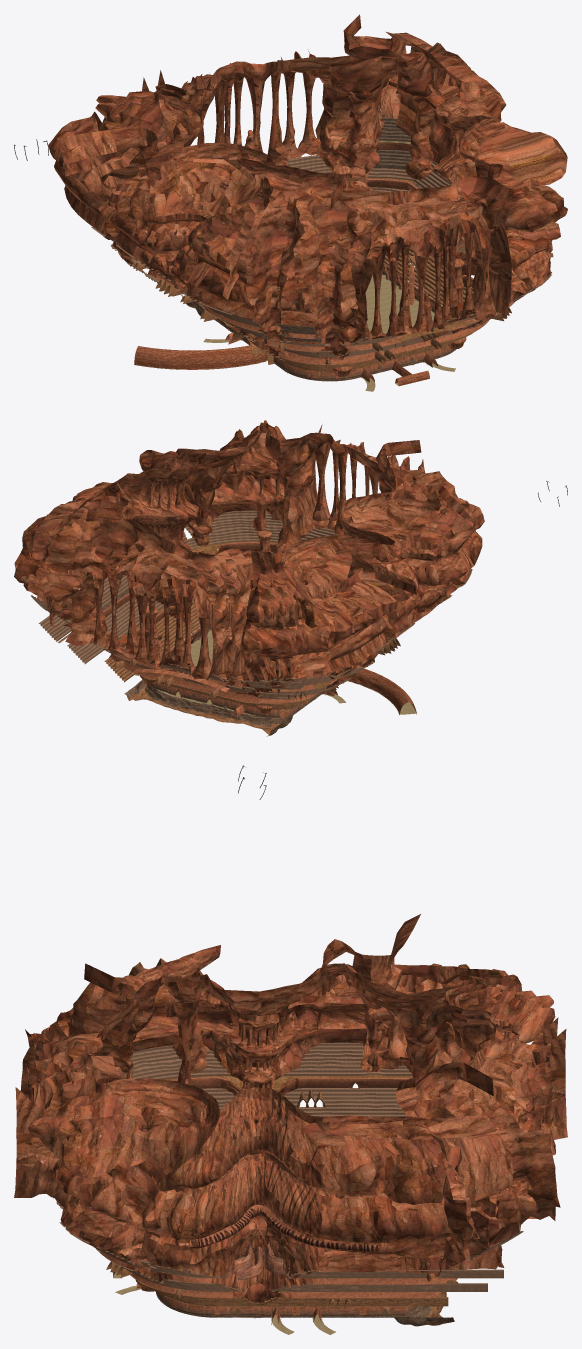
Rendered from map.glb.
The picture shows the model from 3 angles, top to bottom: view 1: azimuth 30°, elevation 25°; view 2: azimuth 150°, elevation 25°; view 3: azimuth 270°, elevation 25°; orthographic projection. The views are drawn at different scales.
Visible parts, largest first — view 1: RockSidingP1.001, RockSidingP1, RockSidingP2, RockSidingP3, FrontEntrance.066, Stairs.006, Stairs.004, Floor.002, Stairs.007, WallsArena.041, Stairs.003, RockSidingP3.001 (+1 smaller); view 2: RockSidingP1.001, RockSidingP1, RockSidingP2, Stairs.008, RockSidingP3, Stairs.009, Stairs.006, Floor, FrontEntrance.066, Stairs.004, Floor.002, Floor.001 (+2 smaller); view 3: RockSidingP1.001, RockSidingP2, RockSidingP1, Stairs.003, RockSidingP3, Stairs.009, Stairs.006, WallsArena.041, Stairs.005, RockSidingP2.014, Stairs.008.
Boxes of the visible parts, x1,y1,x2,y2 form: RockSidingP1.001: (48, 14, 550, 344); RockSidingP1: (184, 118, 567, 361); RockSidingP2: (416, 42, 567, 297); RockSidingP3: (148, 142, 513, 364); FrontEntrance.066: (134, 345, 265, 369); Stairs.006: (247, 247, 489, 371); Stairs.004: (262, 155, 479, 358); Floor.002: (136, 274, 455, 391); Stairs.007: (277, 114, 411, 342); WallsArena.041: (199, 262, 456, 381); Stairs.003: (91, 168, 414, 346); RockSidingP3.001: (133, 255, 511, 367); RockSidingP1.001: (14, 481, 482, 697); RockSidingP1: (176, 420, 484, 611); RockSidingP2: (14, 448, 198, 625); Stairs.008: (183, 510, 373, 699); RockSidingP3: (65, 542, 433, 703); Stairs.009: (38, 575, 163, 663); Stairs.006: (104, 598, 311, 709); Floor: (124, 680, 293, 732); FrontEntrance.066: (347, 668, 416, 714); Stairs.004: (96, 526, 347, 693); Floor.002: (156, 630, 416, 715); Floor.001: (129, 684, 289, 736); RockSidingP1.001: (60, 914, 567, 1281); RockSidingP2: (155, 1087, 478, 1305); RockSidingP1: (14, 945, 243, 1284); Stairs.003: (201, 1042, 441, 1278); RockSidingP3: (97, 1076, 536, 1298); Stairs.009: (272, 1269, 503, 1291); Stairs.006: (130, 1274, 457, 1308); WallsArena.041: (156, 1292, 417, 1317); Stairs.005: (131, 1045, 230, 1079); RockSidingP2.014: (196, 1204, 378, 1252); Stairs.008: (59, 1222, 245, 1291).
Size of the model in its own units: 250 by 128 by 195.
Materials: 48 (43 with a texture image).
